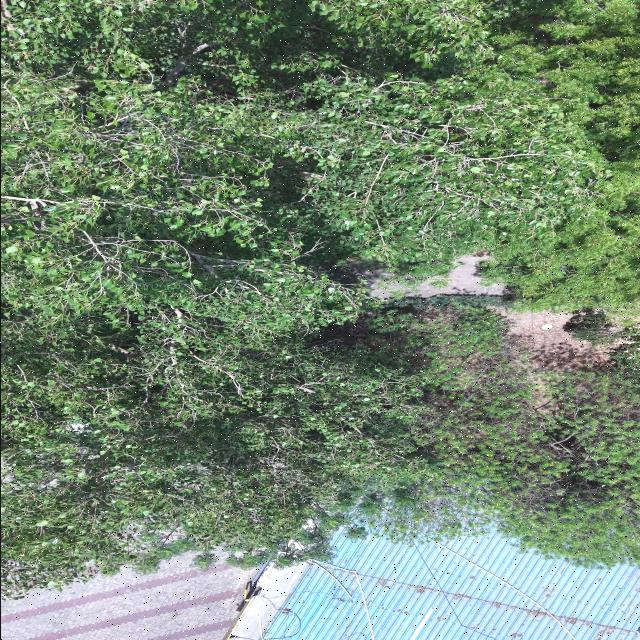DRY_AREA: (1, 554, 307, 639), (1, 554, 255, 639), (500, 310, 623, 413), (497, 309, 622, 378), (500, 310, 612, 371), (360, 256, 508, 298)
PATHWAYS: (361, 256, 508, 298)
ROOFTOP_BUILDING: (252, 533, 639, 639)
VEGETATION_TREE: (1, 0, 639, 594), (4, 0, 639, 310), (358, 307, 639, 566)
